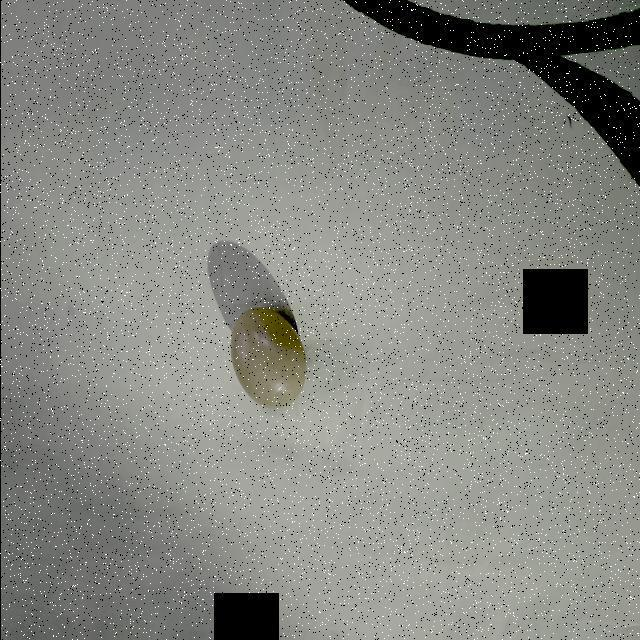egg: (227, 304, 310, 410)
